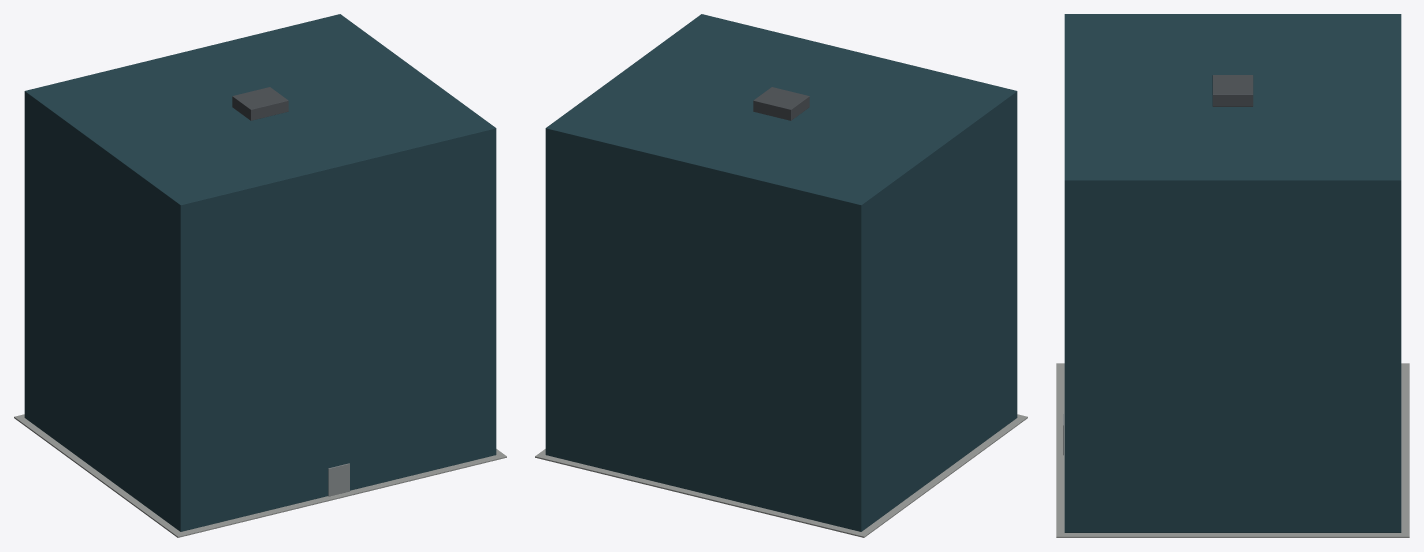
Rendered from Building_Landmark_012.glb.
The picture shows the model from 3 angles, left to right: view 1: azimuth 30°, elevation 25°; view 2: azimuth 150°, elevation 25°; view 3: azimuth 270°, elevation 25°; orthographic projection. The views are drawn at different scales.
Parts seen in each view (by area): view 1: Building_Landmark_012; view 2: Building_Landmark_012; view 3: Building_Landmark_012.
Part boxes in pixels (left/top/right/bottom): Building_Landmark_012: left=14, top=14, right=506, bottom=537; Building_Landmark_012: left=535, top=14, right=1027, bottom=537; Building_Landmark_012: left=1056, top=14, right=1409, bottom=537.
Bounding box in the file's own units: 36.87 × 36.36 × 31.78.
